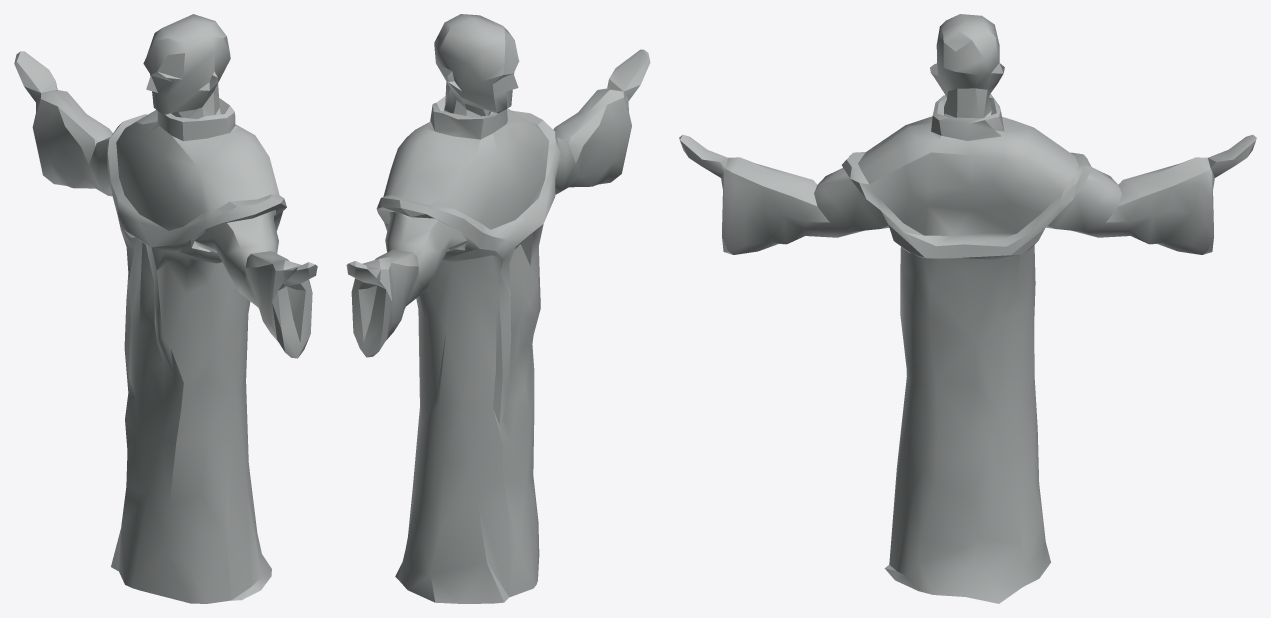
Rendered from Center_Statue.fbx.
3 renders of one model, left to right at view 1: azimuth 30°, elevation 25°; view 2: azimuth 150°, elevation 25°; view 3: azimuth 270°, elevation 25°, orthographic.
Parts seen in each view (by area): view 1: Center_Statue_LOD0; view 2: Center_Statue_LOD0; view 3: Center_Statue_LOD0.
Boxes of the visible parts, box(x1,y1,x2,y2) form: Center_Statue_LOD0: box(14, 14, 317, 603); Center_Statue_LOD0: box(346, 14, 650, 603); Center_Statue_LOD0: box(679, 14, 1256, 603).
Size of what is drawn, in the model's own units: 60.34 by 247 by 233.
1 material, 1 textured.
